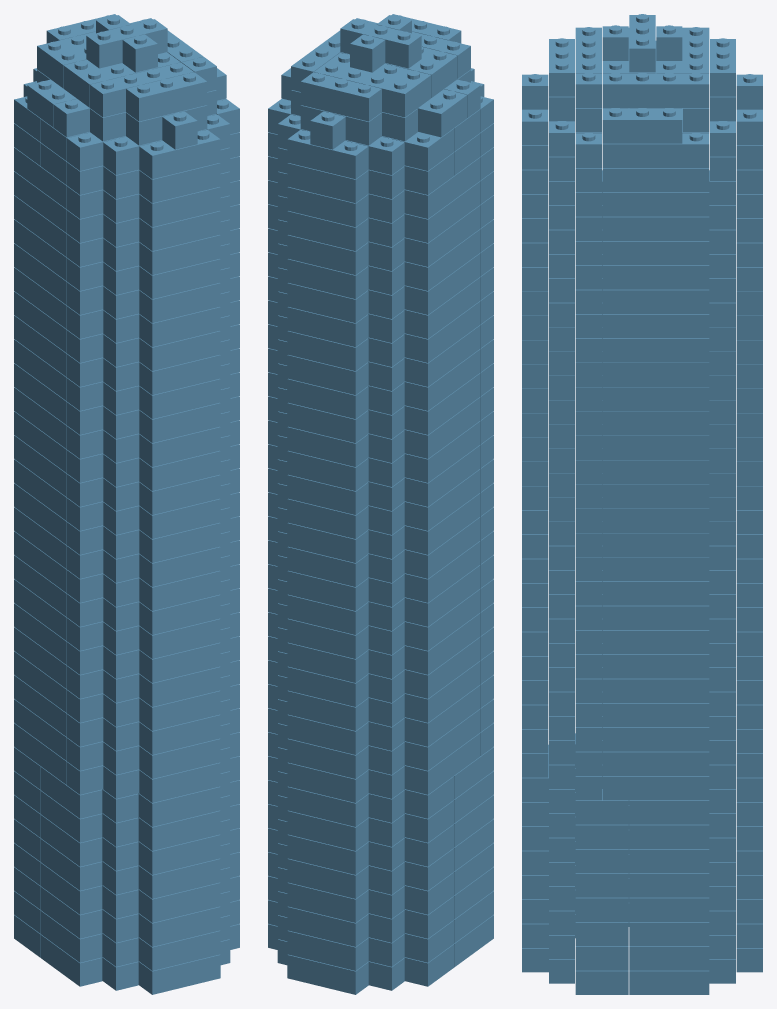
File: 235_tower_L5.glb
The picture shows the model from 3 angles, left to right: view 1: azimuth 30°, elevation 25°; view 2: azimuth 150°, elevation 25°; view 3: azimuth 270°, elevation 25°; orthographic projection.
Size of the model in its own units: 6.98 by 38.13 by 8.98.
